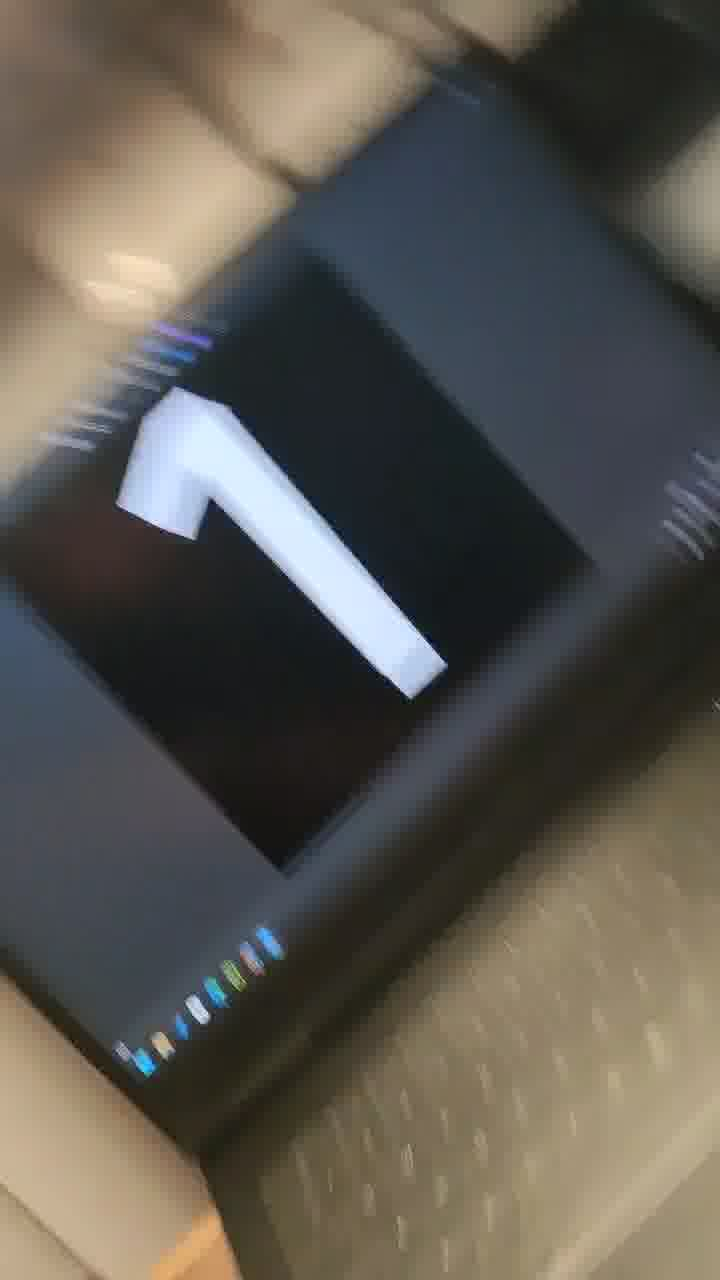one: (34, 275, 520, 859)
